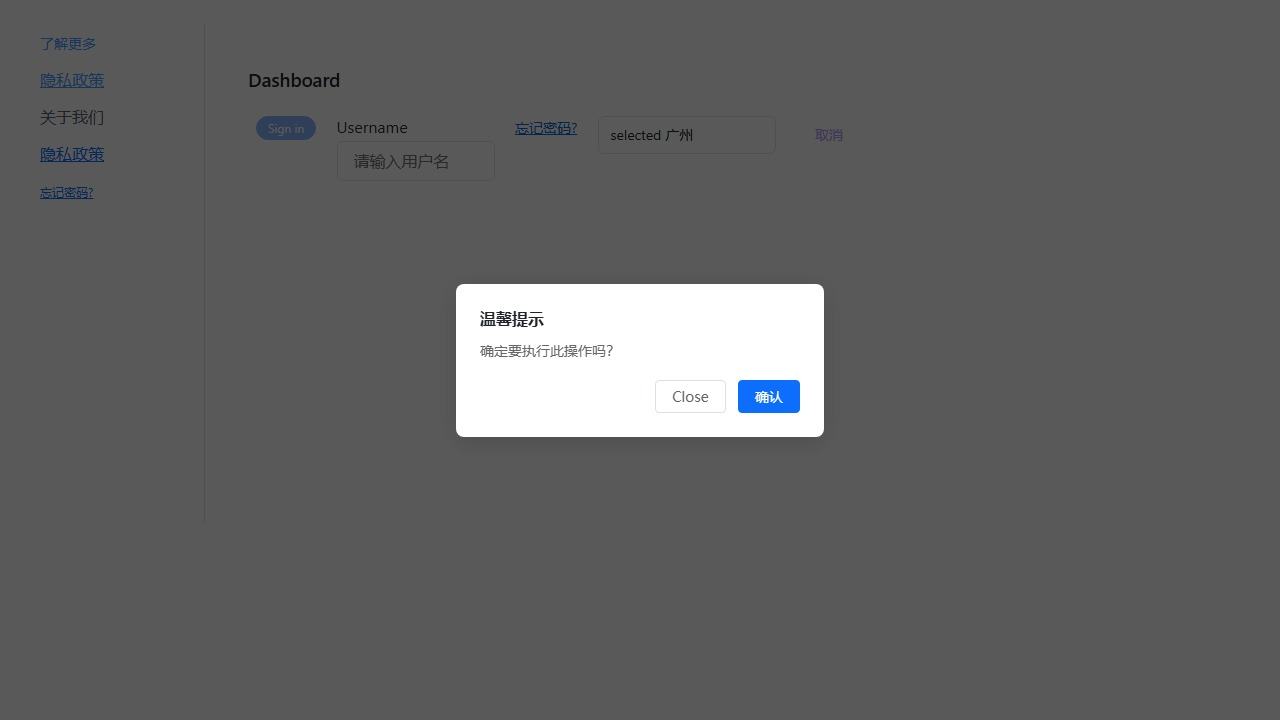button: (796, 116, 862, 154), (655, 380, 726, 412), (738, 380, 800, 412), (256, 116, 316, 140)
input: (337, 141, 495, 181)
link: (40, 69, 104, 90), (40, 106, 104, 127), (40, 143, 104, 164), (515, 118, 577, 137), (40, 34, 96, 53), (40, 184, 93, 200)
modal: (0, 0, 1280, 720)
select: (598, 116, 776, 154)
